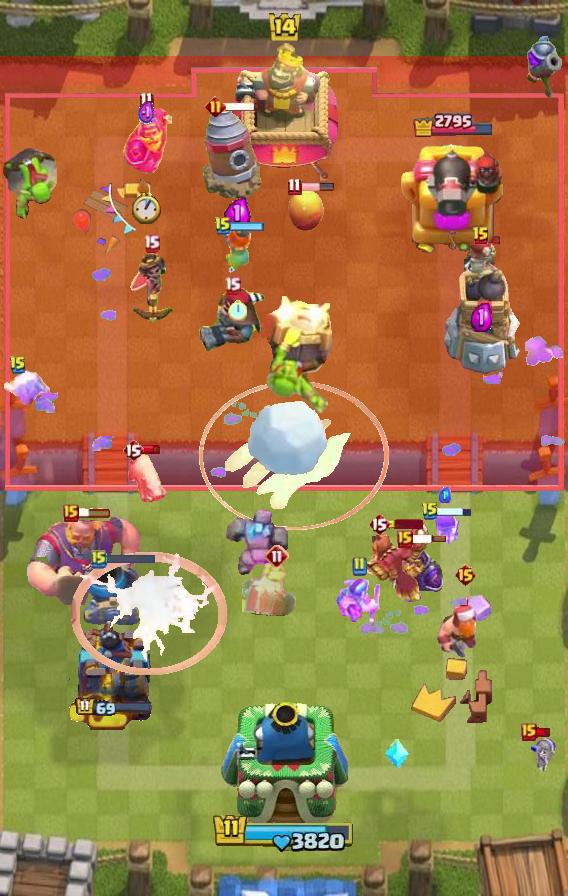bar-level: (0, 143, 60, 219)
barbarian-evolution: (71, 553, 227, 676)
bomb-tower: (524, 33, 562, 99)
bomber-evolution: (128, 249, 174, 329)
clock: (212, 812, 356, 854)
electro-spirit: (225, 196, 251, 230), (472, 304, 493, 333), (137, 100, 154, 126), (439, 487, 451, 503)
elixir: (131, 192, 160, 224), (228, 299, 248, 321)
emote: (104, 552, 156, 565), (76, 507, 112, 519), (223, 101, 260, 112), (231, 220, 266, 231), (437, 507, 472, 518), (299, 182, 335, 192), (387, 519, 423, 529), (411, 534, 447, 544), (143, 444, 162, 455), (536, 726, 553, 737)
firecracker-evolution: (120, 105, 171, 175), (387, 544, 443, 593)
giant: (126, 450, 170, 506)
giant-snowball: (335, 578, 383, 630)
goblin: (430, 507, 461, 547), (530, 737, 556, 775)
golden-knight: (354, 521, 430, 603)
hog: (286, 185, 324, 233)
hog-rider: (218, 224, 256, 276)
ice-wizard: (199, 382, 389, 531)
king-tower: (220, 702, 348, 827), (230, 43, 338, 181)
lightning: (25, 515, 143, 605)
magic-archer: (199, 104, 265, 202)
mighty-miner: (435, 589, 495, 663)
mirror: (0, 369, 50, 407)
mortar-evolution: (242, 563, 312, 621)
musketeer: (83, 561, 143, 625)
pad_2: (384, 738, 410, 770)
phoenix-small: (197, 285, 267, 353)
queen-tower: (66, 617, 162, 731)
selected: (413, 111, 496, 137), (75, 698, 153, 719)
text: (265, 544, 289, 568), (455, 563, 478, 587), (122, 438, 144, 462), (368, 512, 390, 536), (206, 96, 227, 117), (214, 216, 232, 236), (472, 226, 490, 246), (9, 355, 27, 375), (421, 501, 439, 521), (144, 234, 161, 253), (224, 276, 241, 295), (91, 549, 107, 569), (351, 556, 367, 576), (63, 504, 79, 522), (397, 530, 413, 548), (521, 723, 537, 741), (287, 176, 302, 195), (138, 91, 153, 109)
tower-bar: (399, 138, 507, 256)
valkyrie-evolution: (226, 503, 288, 579)
wall-breaker: (245, 399, 329, 477)
x-bow: (258, 293, 338, 419)
zappy: (439, 242, 526, 378)
